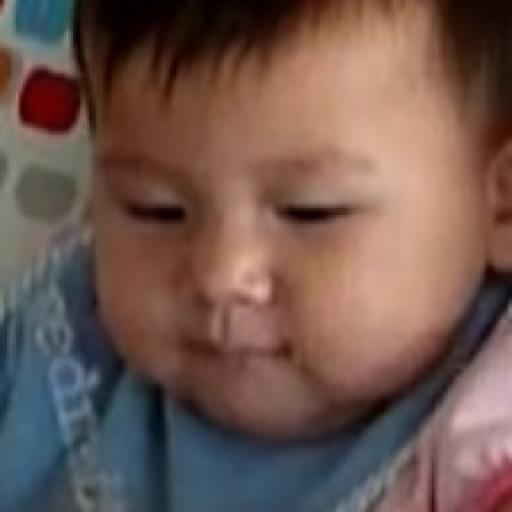Autism: (68, 4, 512, 509)
